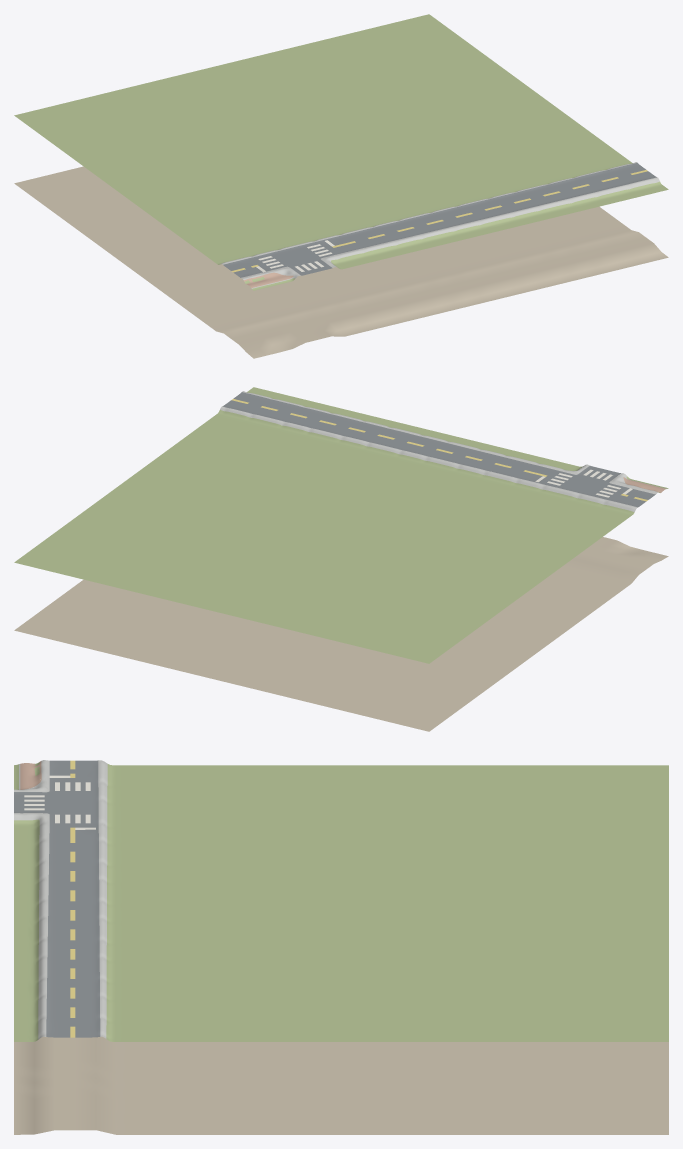
3 renders of one model, top to bottom at view 1: azimuth 30°, elevation 25°; view 2: azimuth 150°, elevation 25°; view 3: azimuth 270°, elevation 25°, orthographic. The views are drawn at different scales.
Parts seen in each view (by area): view 1: s_-4_2__grass, s_-4_2__soil, s_-4_2__asphalt, s_-4_2__stone_paving, s_-4_2__yellow_marking; view 2: s_-4_2__grass, s_-4_2__soil, s_-4_2__asphalt, s_-4_2__stone_paving, s_-4_2__yellow_marking; view 3: s_-4_2__grass, s_-4_2__soil, s_-4_2__asphalt, s_-4_2__stone_paving, s_-4_2__yellow_marking, s_-4_2__white_marking.
Part boxes in pixels (<box>): s_-4_2__grass: <box>14,14,668,290</box>; s_-4_2__soil: <box>14,166,668,358</box>; s_-4_2__asphalt: <box>223,162,656,277</box>; s_-4_2__stone_paving: <box>221,162,659,288</box>; s_-4_2__yellow_marking: <box>231,170,647,272</box>; s_-4_2__grass: <box>14,387,668,663</box>; s_-4_2__soil: <box>14,537,668,731</box>; s_-4_2__asphalt: <box>222,392,655,507</box>; s_-4_2__stone_paving: <box>220,391,666,511</box>; s_-4_2__yellow_marking: <box>231,399,647,501</box>; s_-4_2__grass: <box>14,762,668,1041</box>; s_-4_2__soil: <box>14,1036,668,1134</box>; s_-4_2__asphalt: <box>14,760,100,1037</box>; s_-4_2__stone_paving: <box>14,760,107,1039</box>; s_-4_2__yellow_marking: <box>70,760,75,1037</box>; s_-4_2__white_marking: <box>24,775,95,829</box>.
Size of the model in its own units: 128 by 21.3 by 128.
